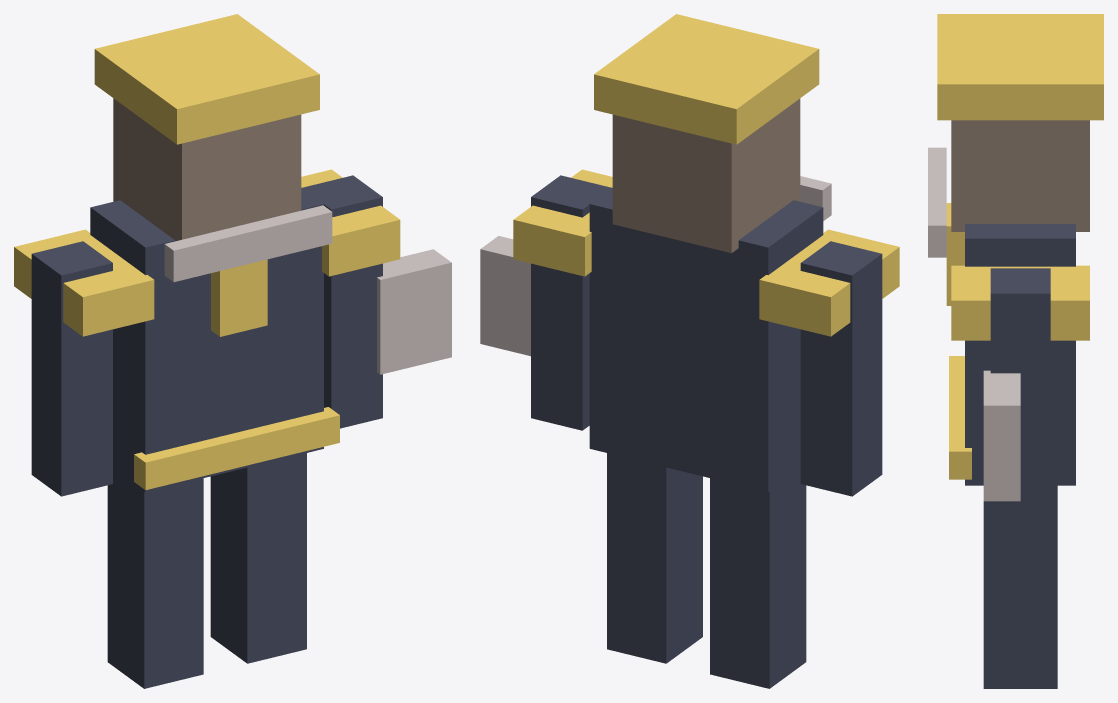
Rendered from 12_elo_gantryn_responder_under_siege.glb.
The picture shows the model from 3 angles, left to right: view 1: azimuth 30°, elevation 25°; view 2: azimuth 150°, elevation 25°; view 3: azimuth 270°, elevation 25°; orthographic projection.
Parts seen in each view (by area): view 1: Elo Gantryn, Responder under Siege; view 2: Elo Gantryn, Responder under Siege; view 3: Elo Gantryn, Responder under Siege.
Boxes of the visible parts, x1,y1,x2,y2 form: Elo Gantryn, Responder under Siege: (14, 14, 451, 688); Elo Gantryn, Responder under Siege: (480, 14, 899, 688); Elo Gantryn, Responder under Siege: (928, 14, 1103, 688).
Bounding box in the file's own units: 1.05 × 1.53 × 0.4078.
